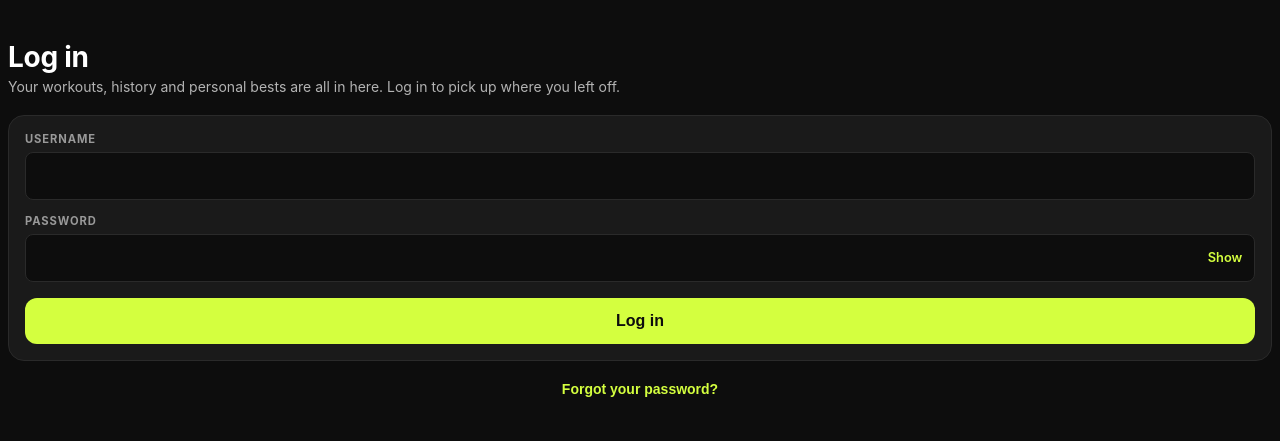
Test: Login › falls back to its own wording when the failure carries no message
In the field labelled "Username": (640, 176) x1=25 y1=152 x2=1255 y2=200, type "kapekost"
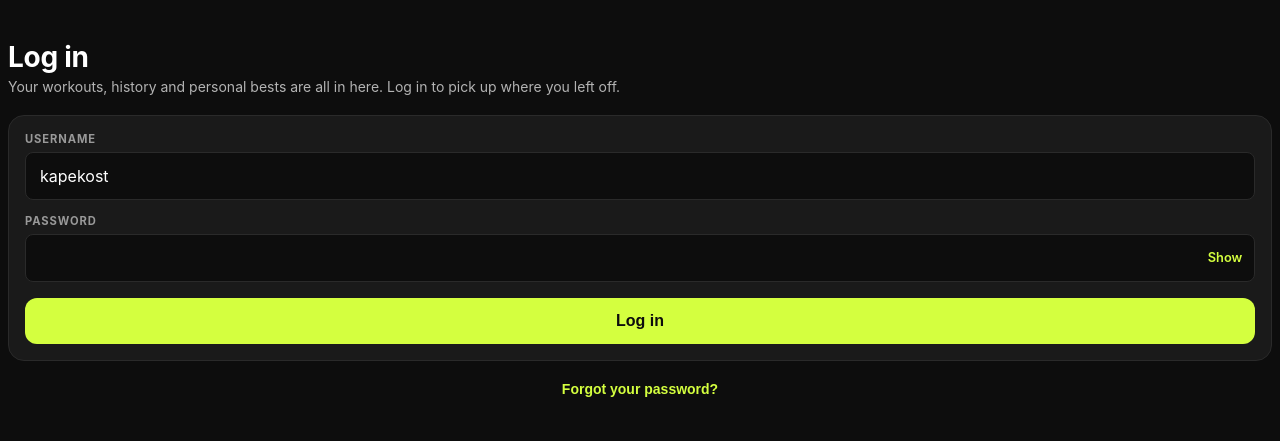
In the password field labelled "Password": (640, 258) x1=25 y1=234 x2=1255 y2=282, type "correct horse battery"
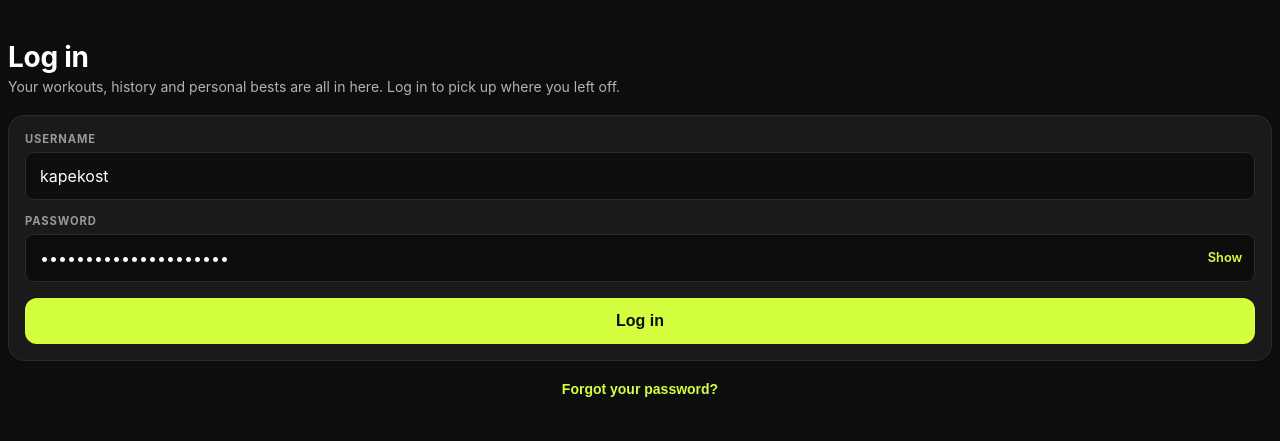
Click the button "Log in": (640, 320) x1=25 y1=298 x2=1255 y2=344
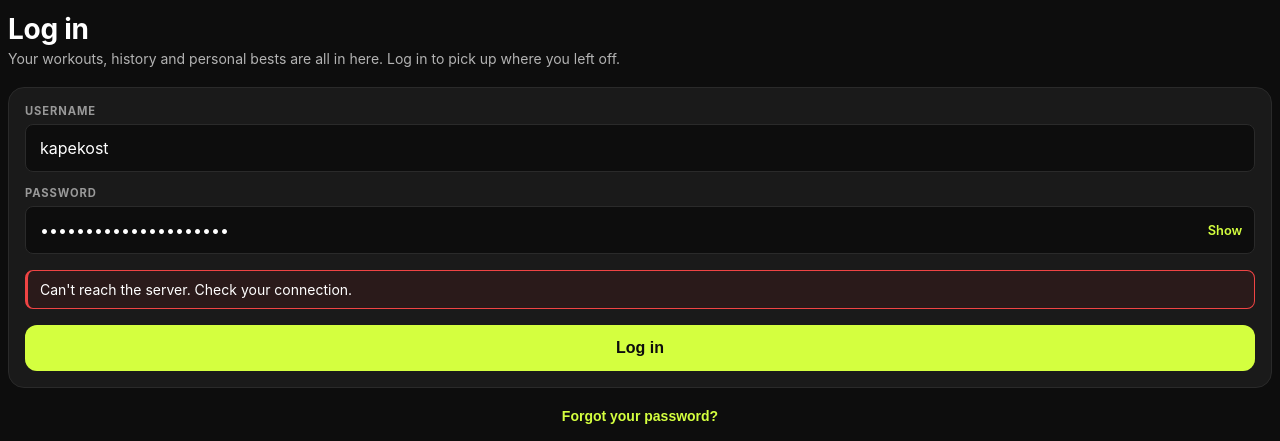
Now the message shows "Can't reach the server", box x1=40 y1=281 x2=352 y2=298
